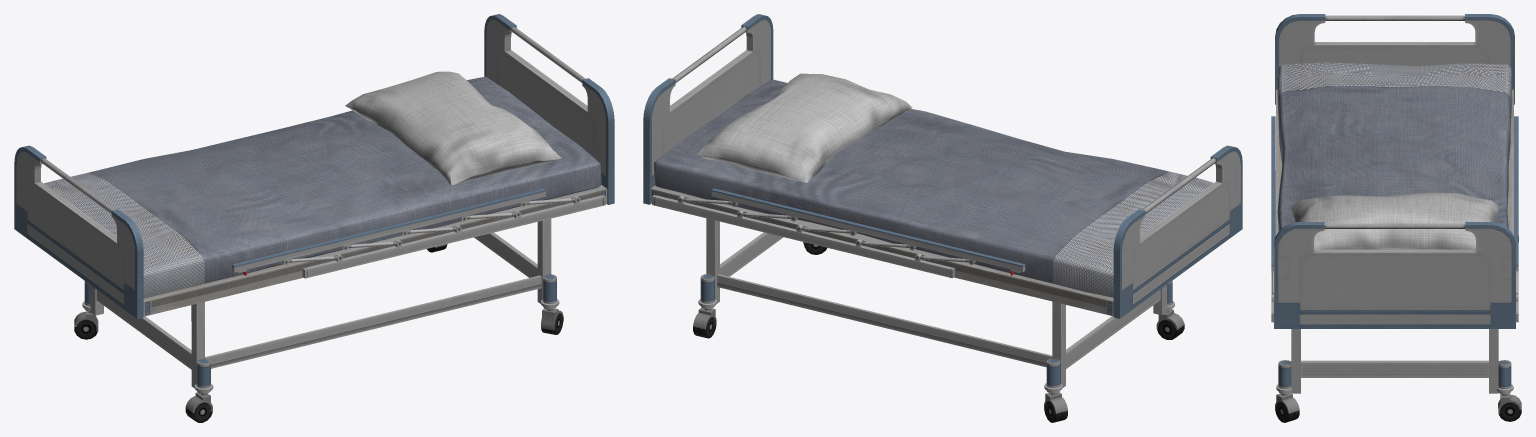
The model's file is HH_Hospital_Bed_02.fbx.
The picture shows the model from 3 angles, left to right: view 1: azimuth 30°, elevation 25°; view 2: azimuth 150°, elevation 25°; view 3: azimuth 270°, elevation 25°; orthographic projection. The views are drawn at different scales.
Visible parts, largest first — view 1: HH_Hospital_Bed_02_LOD0; view 2: HH_Hospital_Bed_02_LOD0; view 3: HH_Hospital_Bed_02_LOD0.
Boxes of the visible parts, box(x1,y1,x2,y2) form: HH_Hospital_Bed_02_LOD0: box(14, 14, 614, 422); HH_Hospital_Bed_02_LOD0: box(643, 14, 1242, 422); HH_Hospital_Bed_02_LOD0: box(1271, 14, 1521, 422).
Size of what is drawn, in the model's own units: 220 by 100 by 102.
